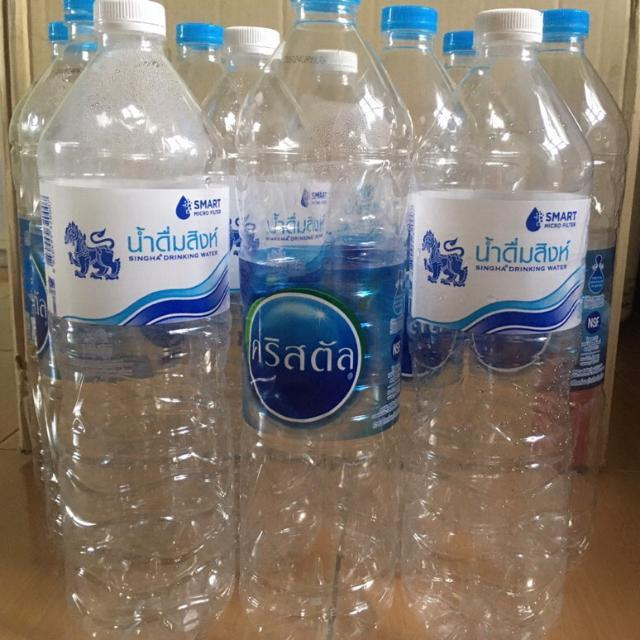PET Bottle: (34, 0, 244, 640), (419, 11, 602, 627), (239, 0, 412, 635)
